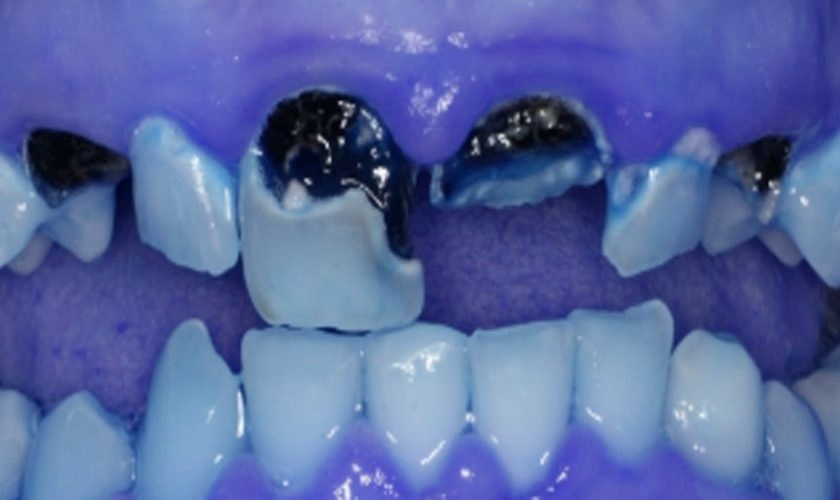karies: (253, 89, 410, 207), (450, 98, 604, 183), (26, 125, 130, 197), (717, 131, 795, 207), (610, 166, 658, 215)
